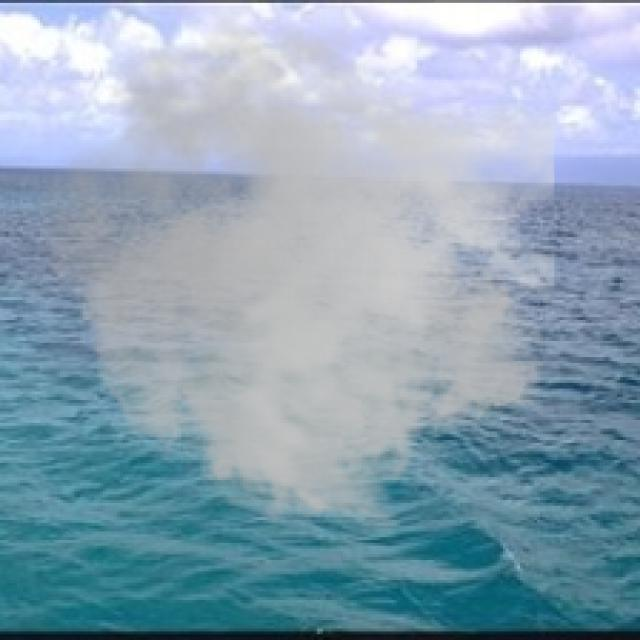smoke: (37, 9, 554, 537)
